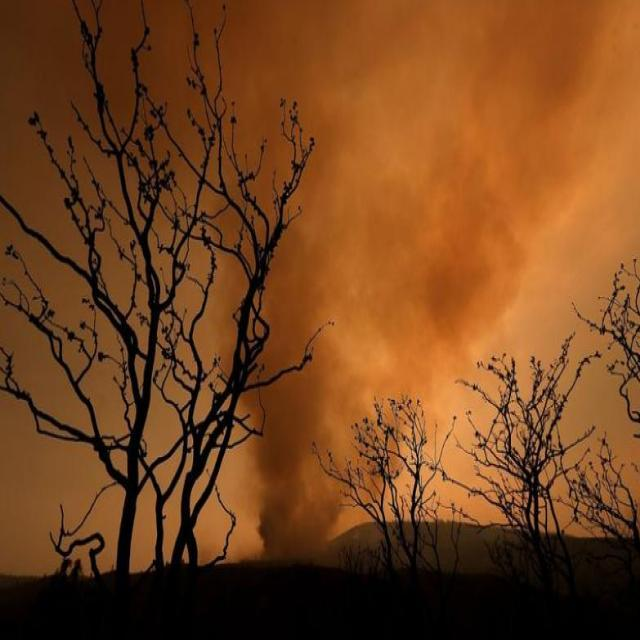Smoke: (254, 38, 513, 553)
